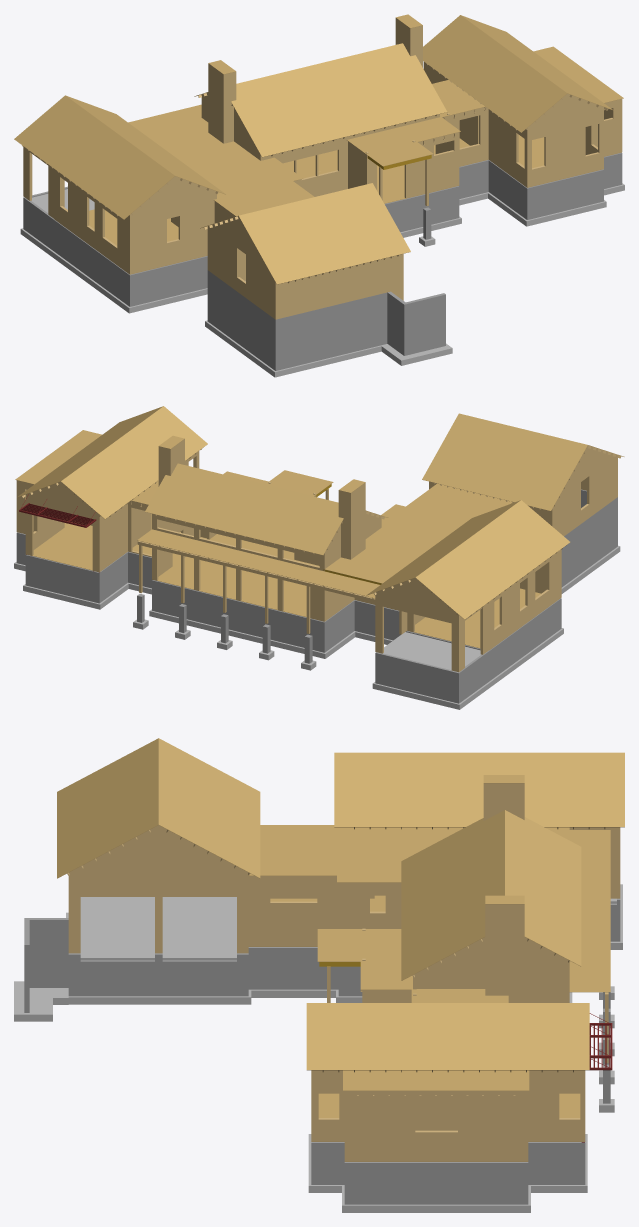
Rendered from l-ranch-steel-concrete.glb.
The picture shows the model from 3 angles, top to bottom: view 1: azimuth 30°, elevation 25°; view 2: azimuth 150°, elevation 25°; view 3: azimuth 270°, elevation 25°; orthographic projection. The views are drawn at different scales.
Visible parts, largest first — view 1: FootPrintRoof Roofs <3059433 5/8" Sheathing<, FootPrintRoof Roofs <3057734 5/8" Sheathing<, FootPrintRoof Roofs <3057800 5/8" Sheathing<, FootPrintRoof Roofs <3059677 5/8" Sheathing<, FootPrintRoof Roofs <3059705 5/8" Sheathing<, Wall Walls <3047798 CIP_8" Concrete<, Wall Walls <3048510 Wood 2x6 Shear Wall - SW-6 (Zip R6)<, Wall Walls <3053395 Wood 2x6 Shear Wall - SW-6 (Zip R6)<, Wall Walls <3053638 Wood 2x6 Shear Wall - SW-6 (Zip R6)<, Wall Walls <3047207 CIP_8" Concrete<, Floor Floors <3074599 3/4" Sheathing<, Wall Walls <3159851 Wood 2x6 Shear Wall - SW-6 (Zip R6)< (+36 smaller); view 2: FootPrintRoof Roofs <3057734 5/8" Sheathing<, FootPrintRoof Roofs <3059433 5/8" Sheathing<, FootPrintRoof Roofs <3057800 5/8" Sheathing<, FootPrintRoof Roofs <3059677 5/8" Sheathing<, Floor Floors <3074599 3/4" Sheathing<, FootPrintRoof Roofs <3059705 5/8" Sheathing<, Wall Walls <3043055 CIP_8" Concrete<, FootPrintRoof Roofs <3061787 5/8" Sheathing<, Wall Walls <3053638 Wood 2x6 Shear Wall - SW-6 (Zip R6)<, Wall Walls <3042412 CIP_8" Concrete<, Wall Walls <3047207 CIP_8" Concrete<, Wall Walls <3054038 Wood 2x6 Stud Wall< (+30 smaller); view 3: FootPrintRoof Roofs <3059433 5/8" Sheathing<, FootPrintRoof Roofs <3057734 5/8" Sheathing<, FootPrintRoof Roofs <3059677 5/8" Sheathing<, FootPrintRoof Roofs <3057800 5/8" Sheathing<, Wall Walls <3052875 Wood 2x6 Stud Wall<, Floor Floors <3061060 4" SOG<, FootPrintRoof Roofs <3059705 5/8" Sheathing<, Wall Walls <3044111 CIP_8" Concrete<, Wall Walls <3046878 CIP_8" Concrete<, Wall Walls <3051012 Wood 2x6 Stud Wall<, Wall Walls <3052336 Wood 2x6 Stud Wall<, FootPrintRoof Roofs <3061787 5/8" Sheathing< (+23 smaller).
Boxes of the visible parts, left/top/right/bottom form: FootPrintRoof Roofs <3059433 5/8" Sheathing<: left=194, top=43, right=447, bottom=157; FootPrintRoof Roofs <3057734 5/8" Sheathing<: left=14, top=95, right=225, bottom=219; FootPrintRoof Roofs <3057800 5/8" Sheathing<: left=200, top=183, right=410, bottom=284; FootPrintRoof Roofs <3059677 5/8" Sheathing<: left=423, top=15, right=612, bottom=132; FootPrintRoof Roofs <3059705 5/8" Sheathing<: left=142, top=117, right=314, bottom=216; Wall Walls <3047798 CIP_8" Concrete<: left=273, top=292, right=387, bottom=370; Wall Walls <3048510 Wood 2x6 Shear Wall - SW-6 (Zip R6)<: left=128, top=176, right=214, bottom=274; Wall Walls <3053395 Wood 2x6 Shear Wall - SW-6 (Zip R6)<: left=274, top=257, right=390, bottom=319; Wall Walls <3053638 Wood 2x6 Shear Wall - SW-6 (Zip R6)<: left=207, top=216, right=274, bottom=318; Wall Walls <3047207 CIP_8" Concrete<: left=207, top=270, right=273, bottom=369; Floor Floors <3074599 3/4" Sheathing<: left=54, top=135, right=621, bottom=274; Wall Walls <3159851 Wood 2x6 Shear Wall - SW-6 (Zip R6)<: left=545, top=93, right=584, bottom=182; FootPrintRoof Roofs <3057734 5/8" Sheathing<: left=366, top=500, right=570, bottom=619; FootPrintRoof Roofs <3059433 5/8" Sheathing<: left=145, top=463, right=388, bottom=555; FootPrintRoof Roofs <3057800 5/8" Sheathing<: left=422, top=413, right=624, bottom=511; FootPrintRoof Roofs <3059677 5/8" Sheathing<: left=16, top=406, right=207, bottom=519; Floor Floors <3074599 3/4" Sheathing<: left=17, top=514, right=561, bottom=650; FootPrintRoof Roofs <3059705 5/8" Sheathing<: left=325, top=483, right=512, bottom=583; Wall Walls <3043055 CIP_8" Concrete<: left=152, top=580, right=321, bottom=651; FootPrintRoof Roofs <3061787 5/8" Sheathing<: left=137, top=529, right=379, bottom=598; Wall Walls <3053638 Wood 2x6 Shear Wall - SW-6 (Zip R6)<: left=550, top=445, right=616, bottom=535; Wall Walls <3042412 CIP_8" Concrete<: left=375, top=652, right=460, bottom=703; Wall Walls <3047207 CIP_8" Concrete<: left=561, top=498, right=615, bottom=587; Wall Walls <3054038 Wood 2x6 Stud Wall<: left=377, top=578, right=456, bottom=671; FootPrintRoof Roofs <3059433 5/8" Sheathing<: left=401, top=810, right=581, bottom=980; FootPrintRoof Roofs <3057734 5/8" Sheathing<: left=334, top=752, right=624, bottom=827; FootPrintRoof Roofs <3059677 5/8" Sheathing<: left=306, top=1003, right=589, bottom=1070; FootPrintRoof Roofs <3057800 5/8" Sheathing<: left=57, top=738, right=260, bottom=878; Wall Walls <3052875 Wood 2x6 Stud Wall<: left=72, top=825, right=244, bottom=953; Floor Floors <3061060 4" SOG<: left=80, top=897, right=236, bottom=960; FootPrintRoof Roofs <3059705 5/8" Sheathing<: left=249, top=825, right=569, bottom=882; Wall Walls <3044111 CIP_8" Concrete<: left=344, top=1162, right=523, bottom=1204; Wall Walls <3046878 CIP_8" Concrete<: left=68, top=953, right=243, bottom=996; Wall Walls <3051012 Wood 2x6 Stud Wall<: left=311, top=1070, right=581, bottom=1141; Wall Walls <3052336 Wood 2x6 Stud Wall<: left=248, top=876, right=338, bottom=946; FootPrintRoof Roofs <3061787 5/8" Sheathing<: left=569, top=830, right=610, bottom=992.
Size of the model in its own units: 98.33 by 30.12 by 78.08.
